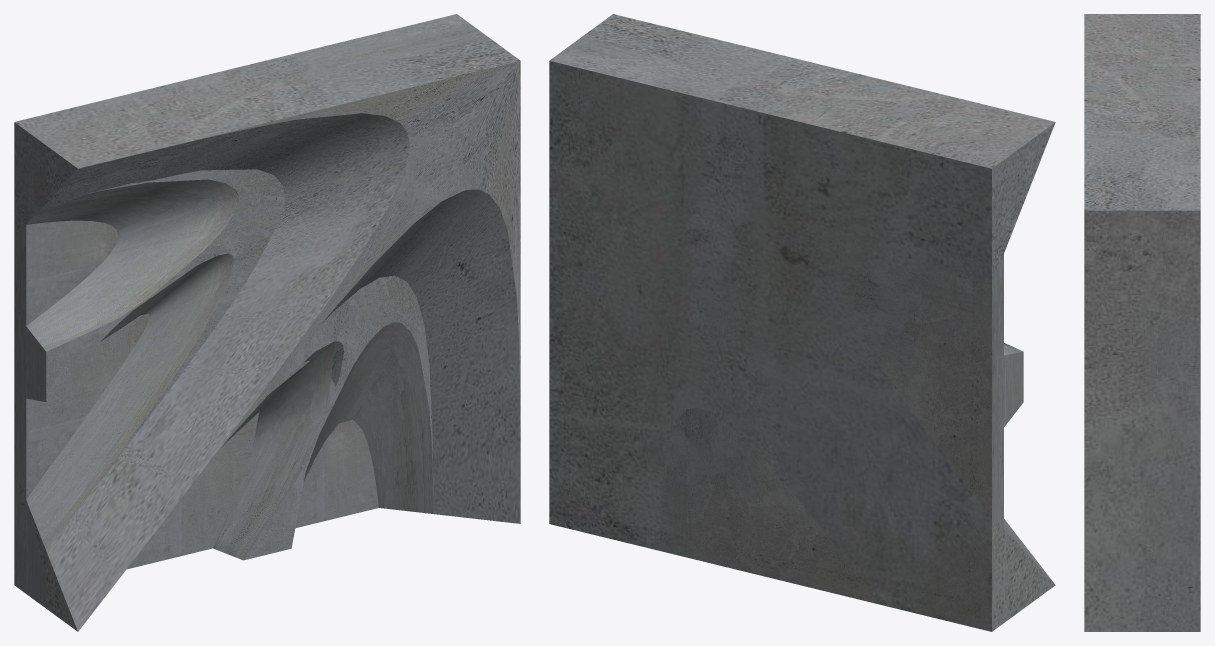
The model's file is module_U2.fbx.
3 renders of one model, left to right at view 1: azimuth 30°, elevation 25°; view 2: azimuth 150°, elevation 25°; view 3: azimuth 270°, elevation 25°, orthographic. The views are drawn at different scales.
Parts seen in each view (by area): view 1: modules; view 2: modules; view 3: modules.
Part boxes in pixels (x1,y1,x2,y2): modules: [14, 14, 520, 631]; modules: [549, 14, 1055, 631]; modules: [1084, 14, 1200, 631].
Bounding box in the file's own units: 1000 × 250 × 1000.
1 material, 1 textured.
